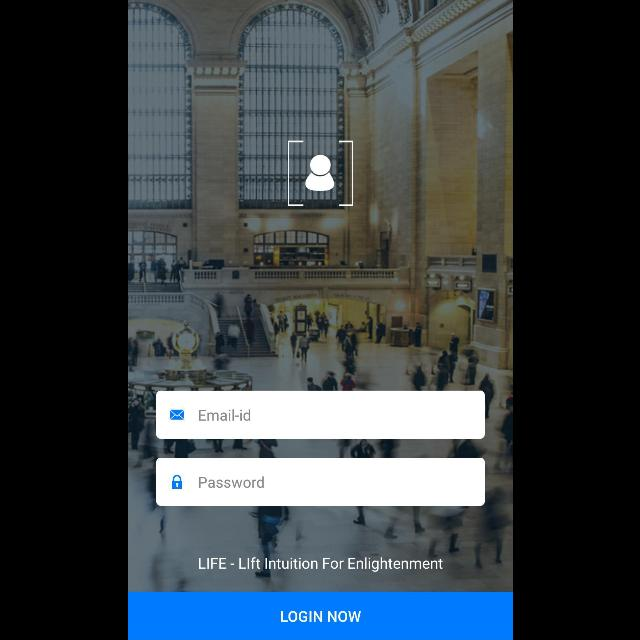backgroundimage: (128, 1, 512, 591)
icon: (171, 476, 181, 488), (170, 410, 182, 420)
image: (288, 142, 352, 206)
input: (156, 391, 484, 439), (156, 458, 484, 506)
text: (198, 558, 442, 572), (198, 476, 264, 488), (198, 409, 250, 421)
textbutton: (128, 592, 512, 640)
